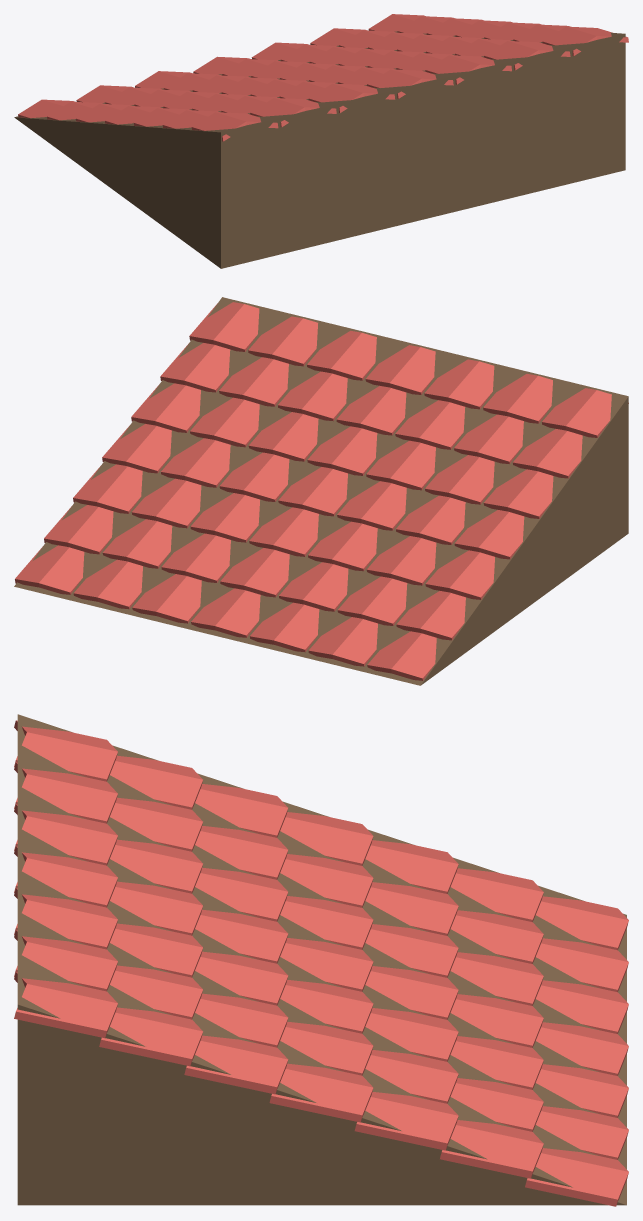
The model's file is Roof_with_plank 1.fbx.
3 renders of one model, top to bottom at view 1: azimuth 30°, elevation 25°; view 2: azimuth 150°, elevation 25°; view 3: azimuth 270°, elevation 25°, orthographic. The views are drawn at different scales.
Visible parts, largest first — view 1: Cube.007, Cube.006; view 2: Cube.006, Cube.007; view 3: Cube.006, Cube.007.
Part boxes in pixels (box(x1,y1,x2,y2)): Cube.007: box(14, 31, 625, 268); Cube.006: box(18, 14, 628, 141); Cube.006: box(15, 302, 628, 680); Cube.007: box(14, 297, 628, 685); Cube.006: box(14, 720, 628, 1206); Cube.007: box(17, 714, 626, 1205).
Bounding box in the file's own units: 468 × 152 × 416.
